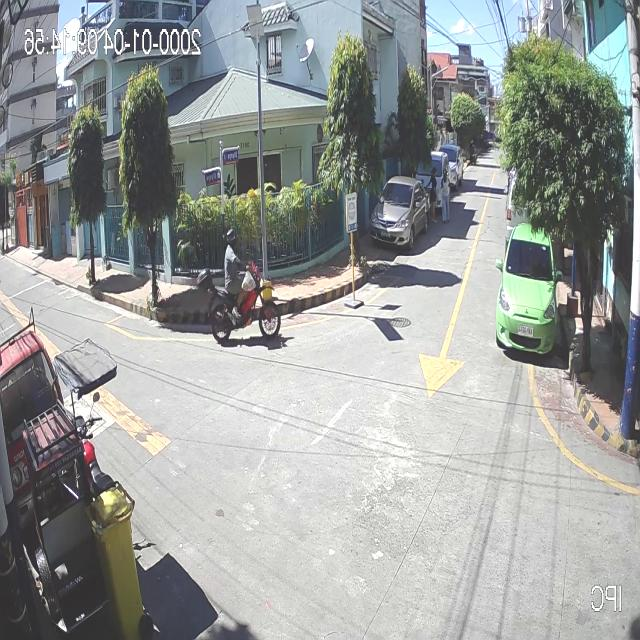standing: (426, 165, 437, 223), (440, 166, 450, 224)
